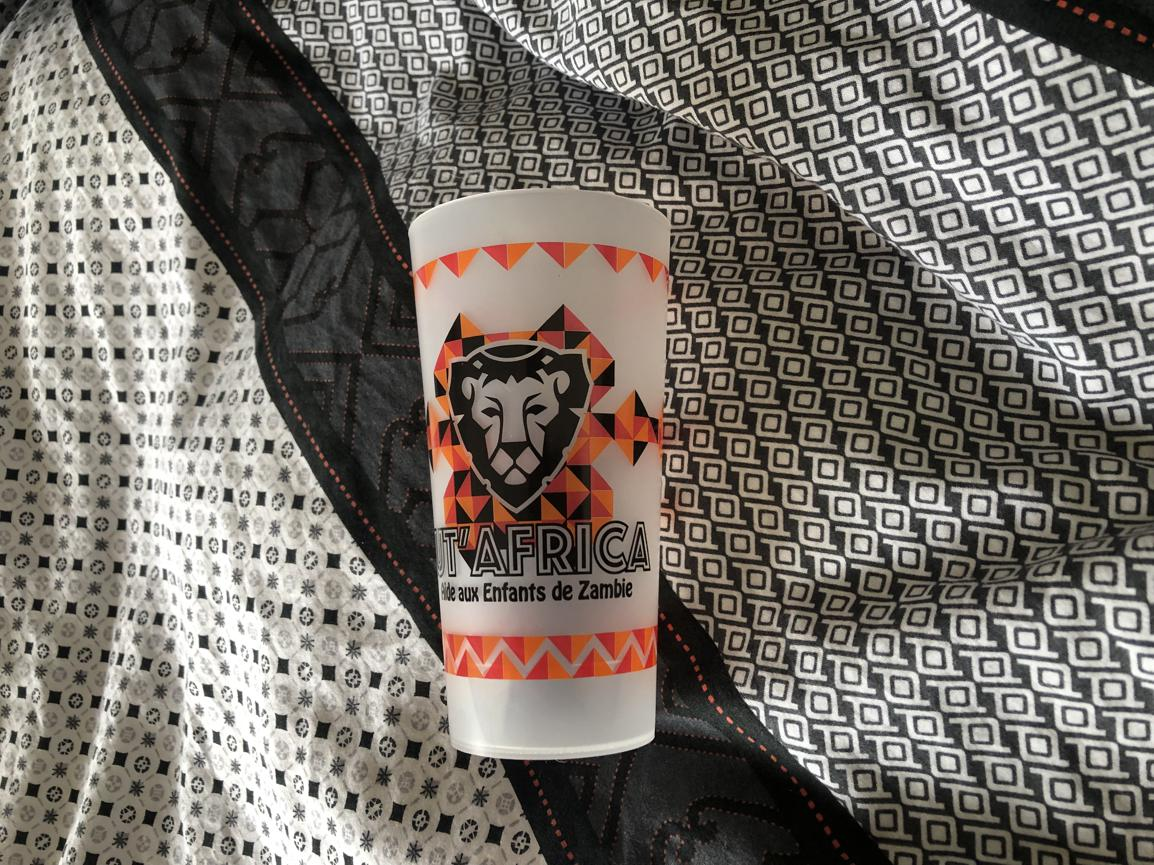ecocup: (407, 189, 671, 759)
